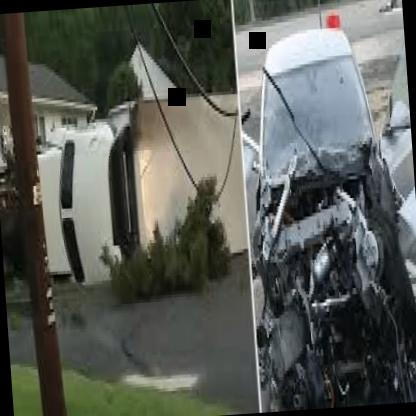accident: (242, 31, 407, 413)
